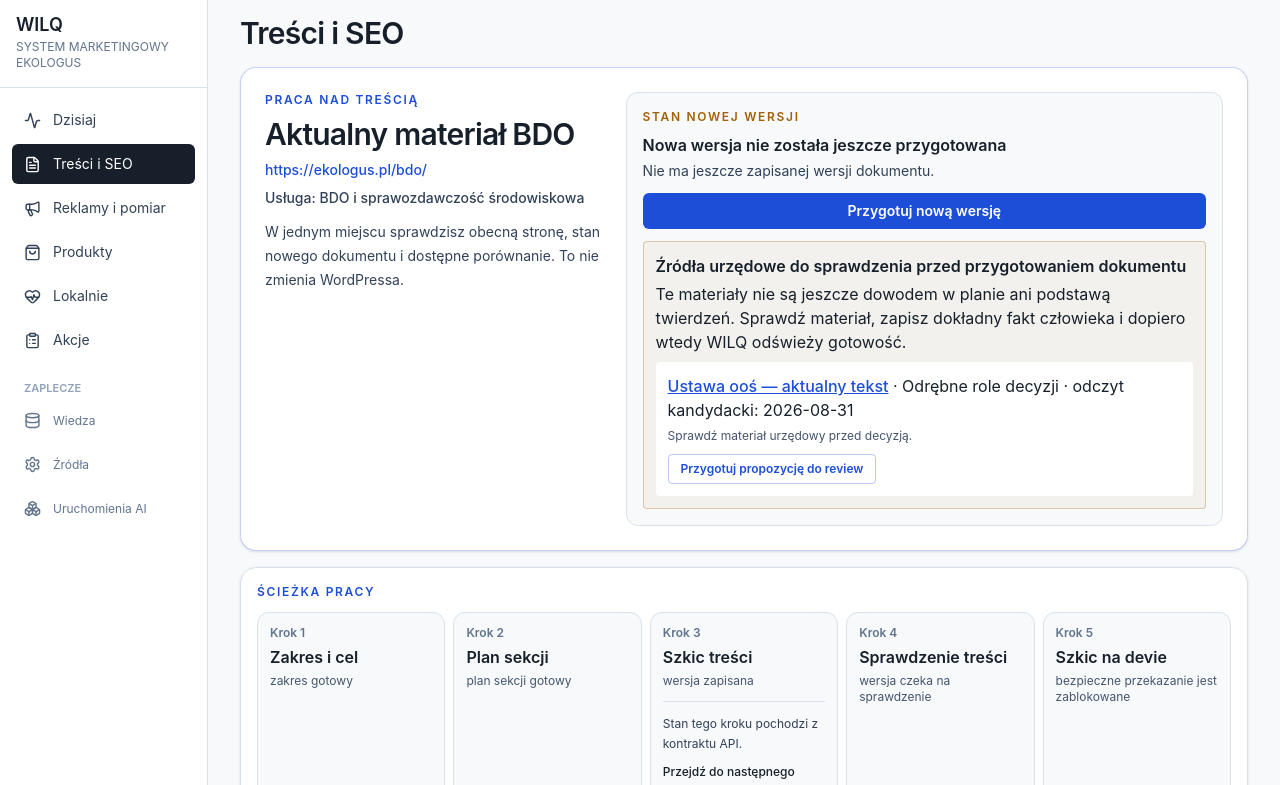
Test: ContentWorkflowSurface › runs plan polling and initial-draft polling before refreshing the selected workspace
This screenshot has width=1280, height=785.
Expected: the element with test id "content-document-state" shows "Nowa wersja nie została jeszcze przygotowana", [643,135,1006,155]
Expected: the text "Nie ma jeszcze zapisanej wersji dokumentu." is shown, [643,162,934,179]
Click the button "Przygotuj nową wersję" at (924,211), box [643,193,1206,229]
(page scrolled)
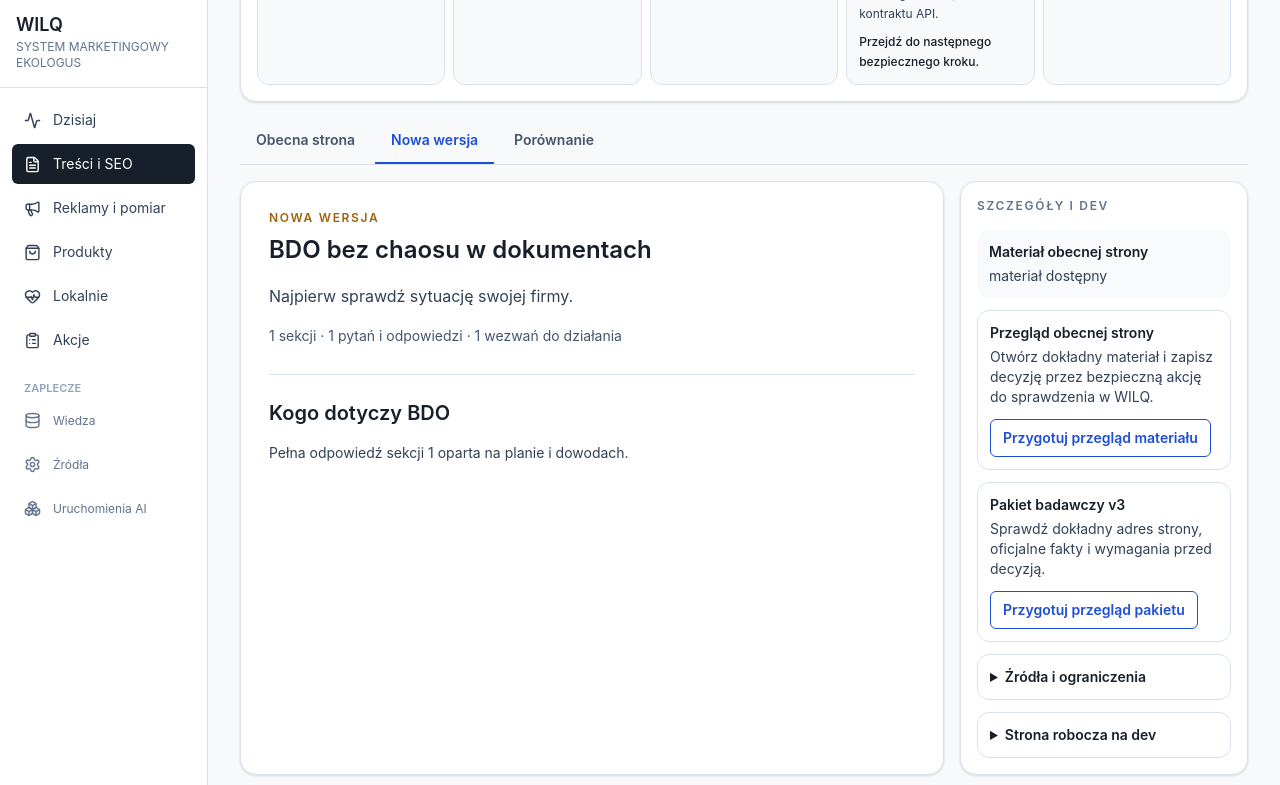
Expected: the text "Pełna odpowiedź sekcji 1 oparta na planie i dowodach." is shown, [269,444,629,461]
